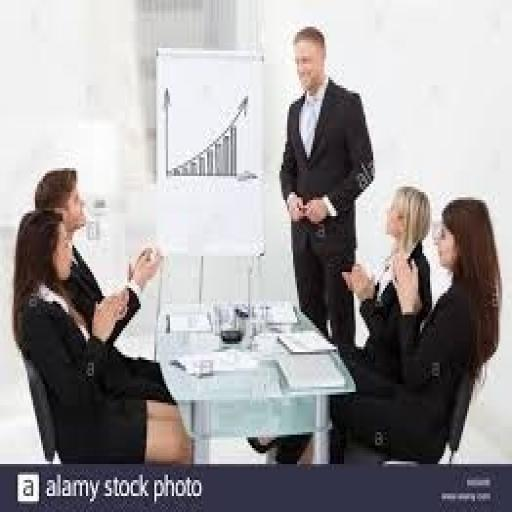clapping: (10, 165, 195, 464), (318, 171, 438, 404), (392, 152, 500, 366)
